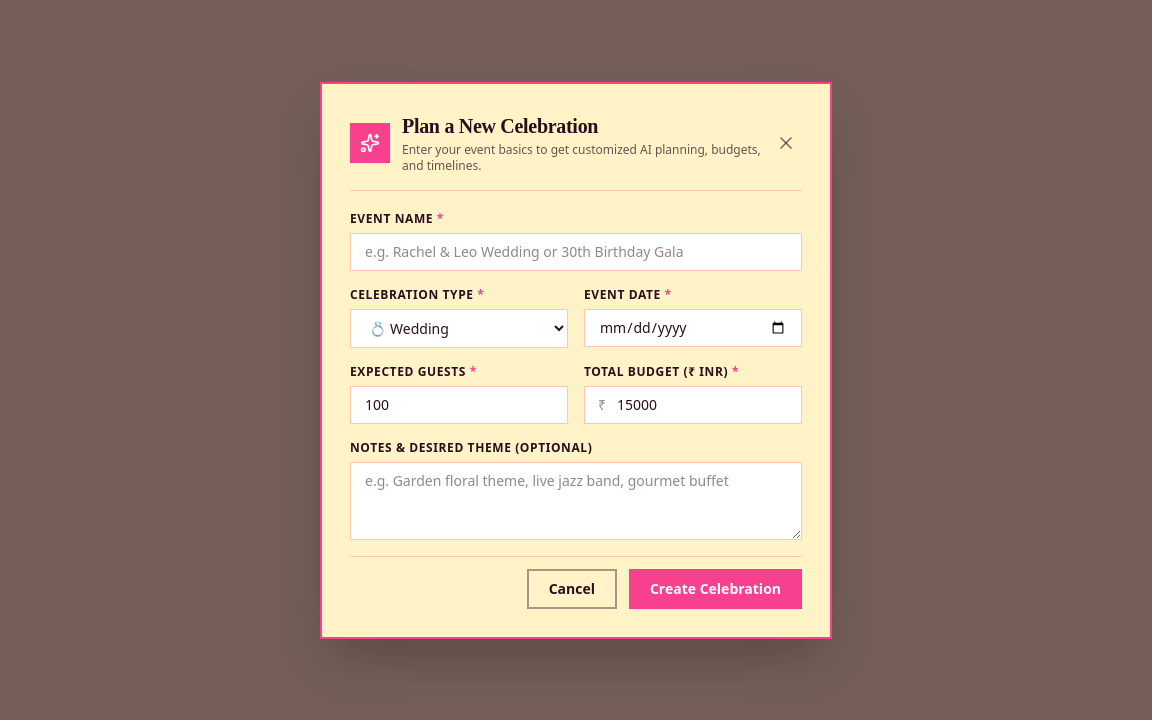
EventFormModal Component › displays client-side validation errors when required fields are missing
Click the button "Create Celebration": coordinates (715, 588) [629,568,802,608]
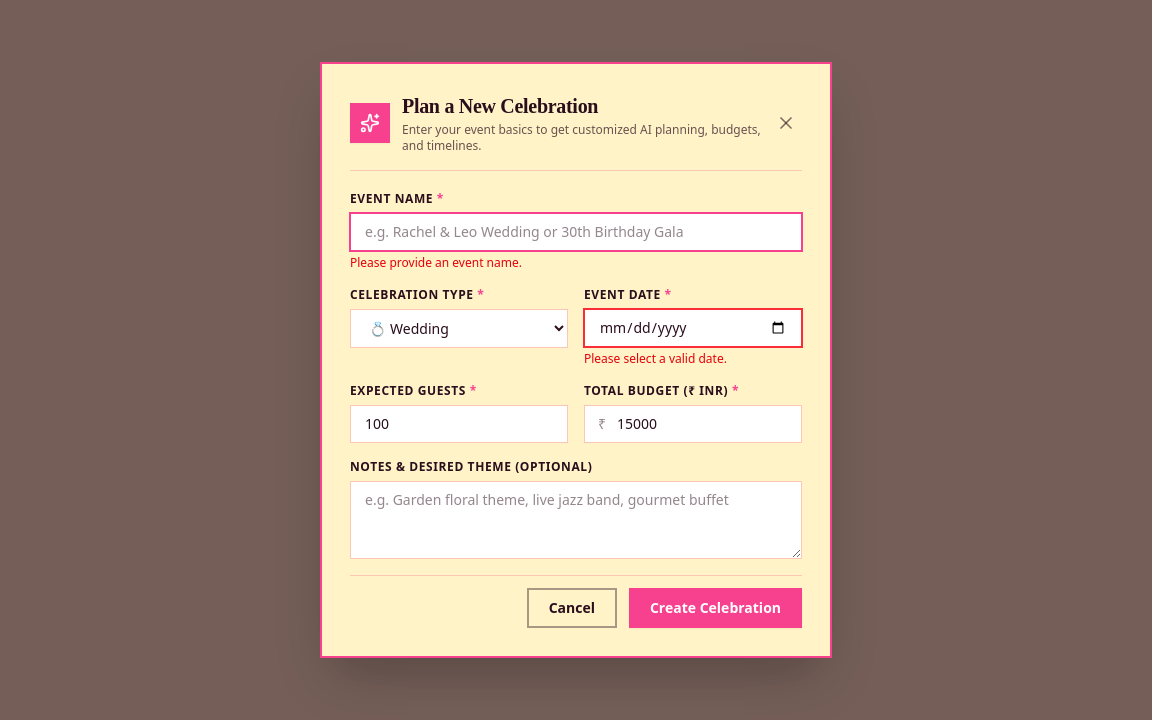
Result: the text "Please provide an event name." is shown at [350,254,522,271]
Result: the text "Please select a valid date." is shown at [584,350,727,367]
